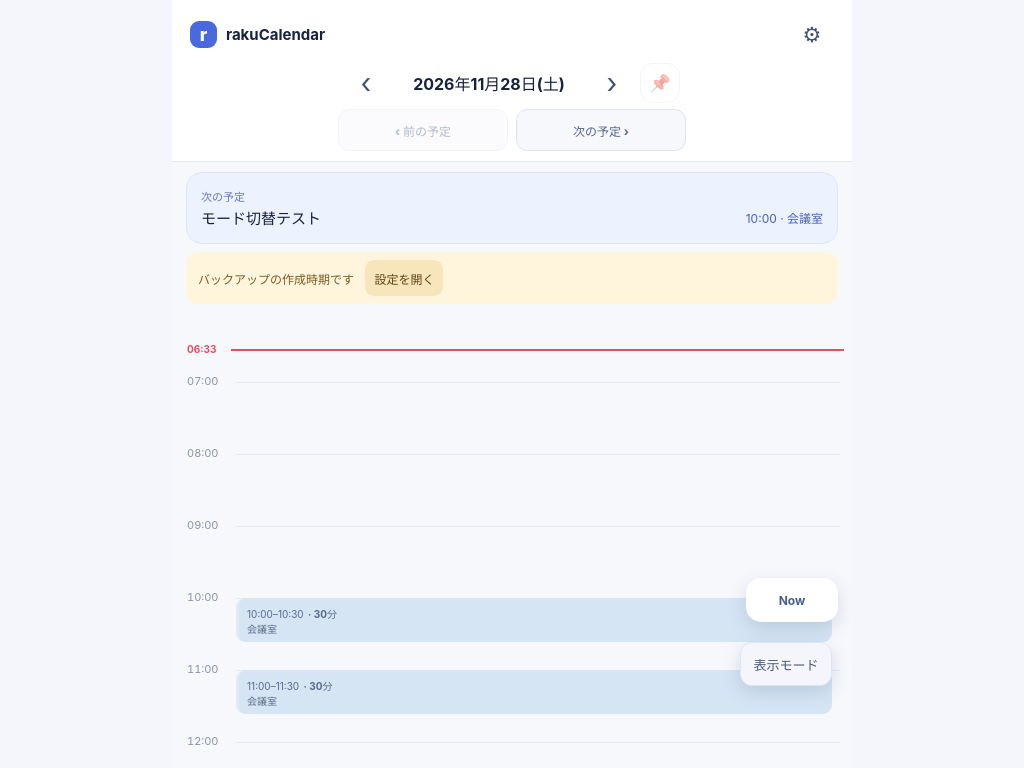
calendar viewing and editing modes › opens gap-created appointments with the title 移動
The width and height of the screenshot is (1024, 768).
(page scrolled)
What coordinates should you click on to do the following:
click the button with class "mode-toggle"
I would click on:
 (786, 664)
Its box is [740,642,832,686].
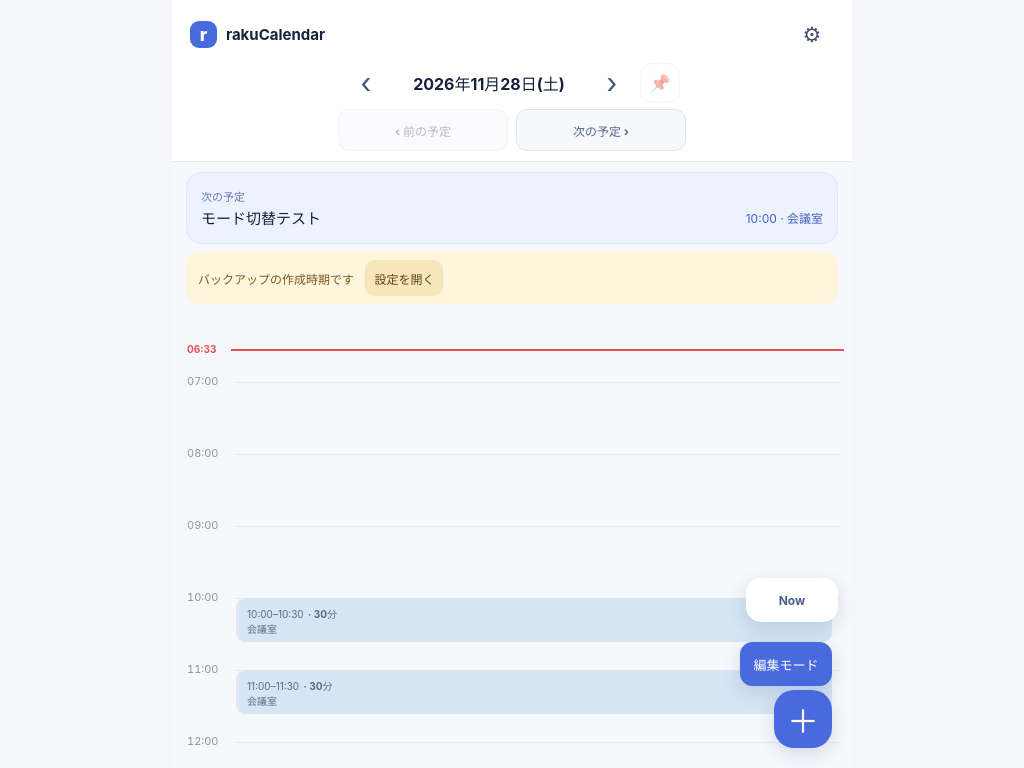
What coordinates should you click on to do the following:
click the element with class "timeline"
I would click on:
 (512, 540)
Its box is [172,313,852,767].
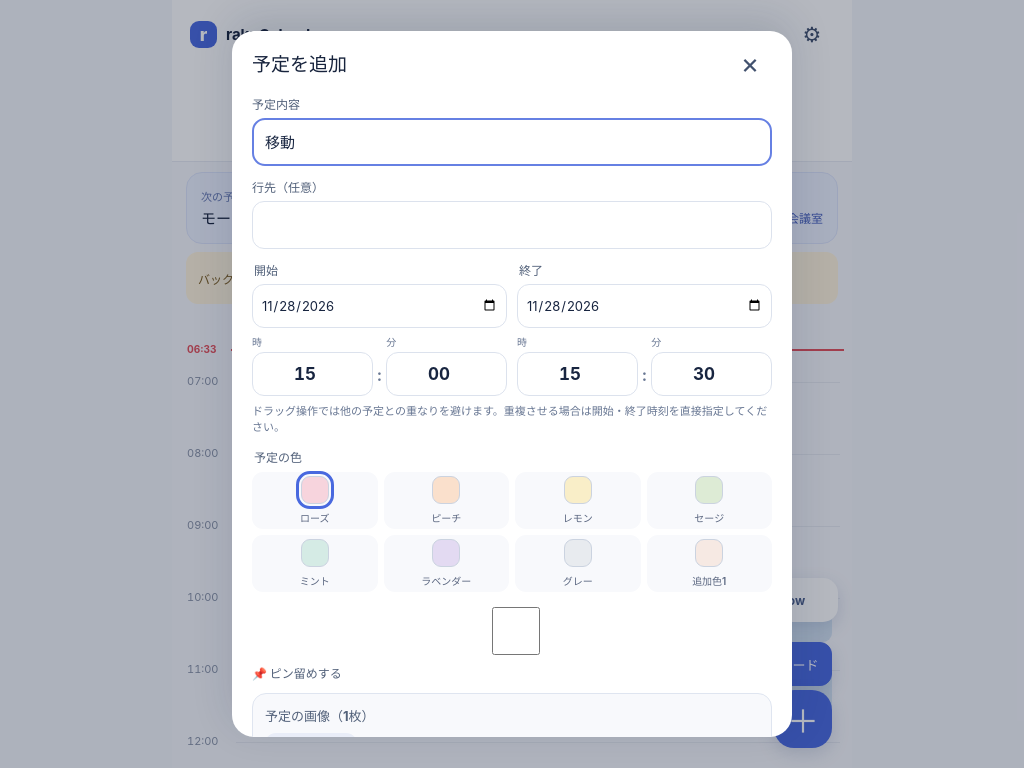
Expected: the field named "title" holds "移動", [252,118,772,166]
